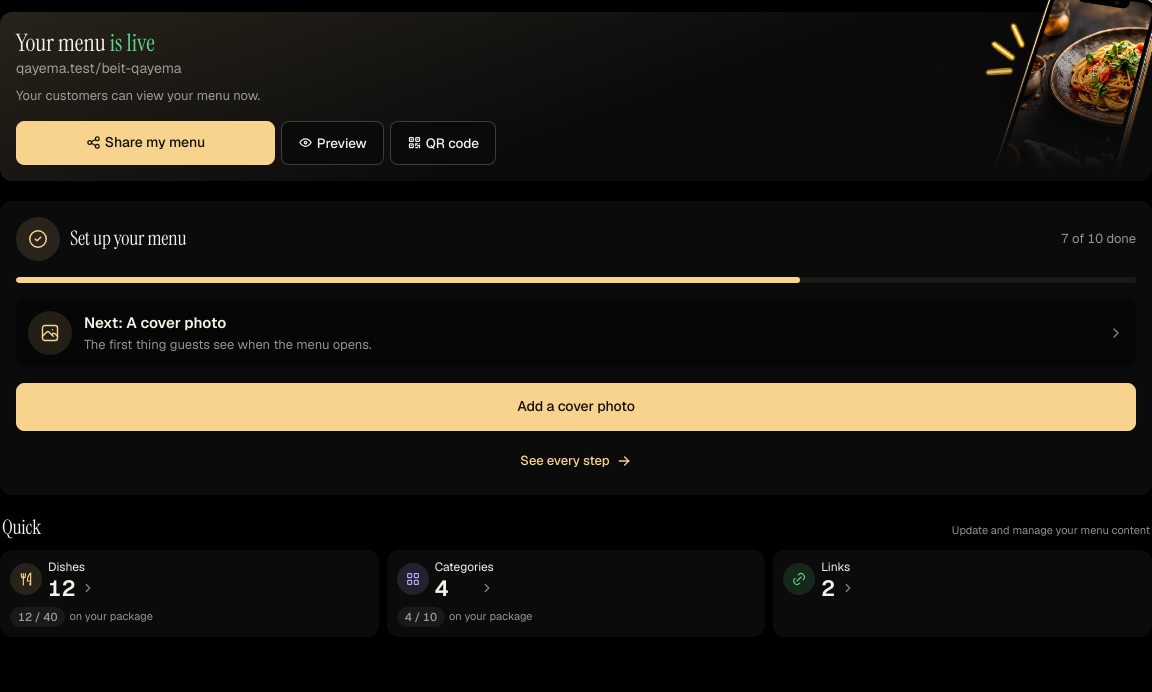
OverviewPage › opens on the first step not done, what is left before what is done
Click the button "See every step" at (576,461), box [506,443,646,479]
(page scrolled)
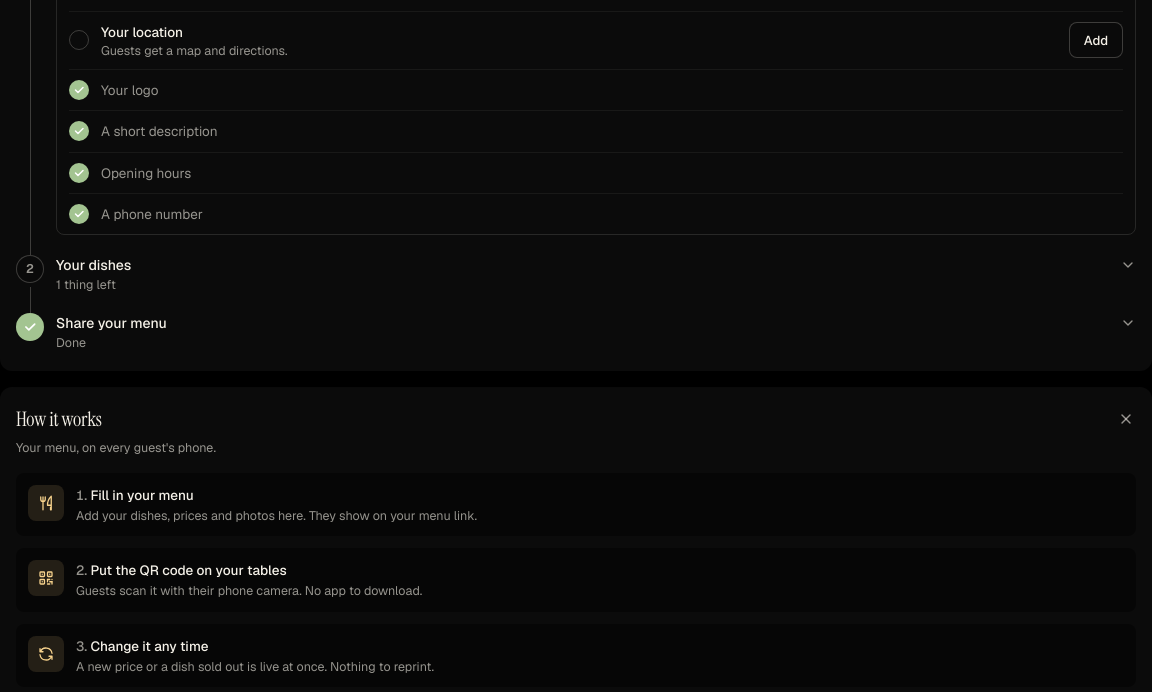
Now the button "Share your menu Done" is shown, box [56,313,1136,352]
